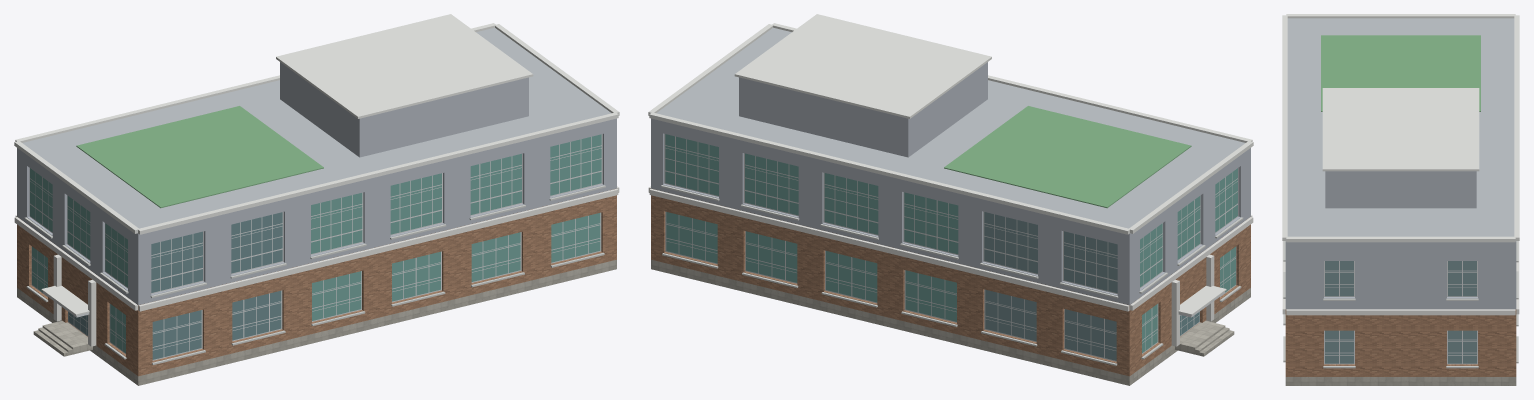
3 views of the same model, side by side, from view 1: azimuth 30°, elevation 25°; view 2: azimuth 150°, elevation 25°; view 3: azimuth 270°, elevation 25° (orthographic). The views are drawn at different scales.
Parts seen in each view (by area): view 1: theatre__metalpanel, theatre__redbrick, theatre__cap, theatre__tealglass, theatre__metalroof, theatre__roofturf, theatre__glass, theatre__frame, theatre__stone, theatre__panel, theatre__sill, theatre__stair-west (+1 smaller); view 2: theatre__metalpanel, theatre__tealglass, theatre__redbrick, theatre__cap, theatre__metalroof, theatre__roofturf, theatre__sideglass, theatre__frame, theatre__stone, theatre__panel, theatre__sill, theatre__stair-west (+1 smaller); view 3: theatre__metalroof, theatre__metalpanel, theatre__cap, theatre__redbrick, theatre__roofturf, theatre__sideglass, theatre__stone, theatre__panel, theatre__frame, theatre__sill.
Part boxes in pixels (left/top/right/bottom): theatre__metalpanel: left=17, top=62, right=616, bottom=305; theatre__redbrick: left=17, top=188, right=616, bottom=376; theatre__cap: left=14, top=14, right=619, bottom=315; theatre__tealglass: left=30, top=134, right=601, bottom=352; theatre__metalroof: left=22, top=27, right=611, bottom=234; theatre__roofturf: left=76, top=106, right=323, bottom=208; theatre__glass: left=68, top=212, right=282, bottom=359; theatre__frame: left=29, top=134, right=602, bottom=360; theatre__stone: left=17, top=259, right=616, bottom=385; theatre__panel: left=14, top=186, right=619, bottom=346; theatre__sill: left=24, top=185, right=605, bottom=364; theatre__stair-west: left=33, top=324, right=77, bottom=356; theatre__metalpanel: left=651, top=62, right=1250, bottom=305; theatre__tealglass: left=665, top=134, right=1237, bottom=352; theatre__redbrick: left=651, top=188, right=1250, bottom=376; theatre__cap: left=648, top=14, right=1253, bottom=315; theatre__metalroof: left=656, top=27, right=1245, bottom=234; theatre__roofturf: left=944, top=106, right=1191, bottom=208; theatre__sideglass: left=984, top=212, right=1117, bottom=360; theatre__frame: left=664, top=134, right=1238, bottom=361; theatre__stone: left=651, top=259, right=1250, bottom=385; theatre__panel: left=648, top=186, right=1253, bottom=346; theatre__sill: left=661, top=185, right=1243, bottom=365; theatre__stair-west: left=1190, top=324, right=1234, bottom=356; theatre__metalroof: left=1285, top=18, right=1516, bottom=241; theatre__metalpanel: left=1285, top=171, right=1516, bottom=309; theatre__cap: left=1282, top=14, right=1519, bottom=242; theatre__redbrick: left=1285, top=309, right=1516, bottom=376; theatre__roofturf: left=1321, top=35, right=1480, bottom=111; theatre__sideglass: left=1325, top=261, right=1476, bottom=363; theatre__stone: left=1285, top=377, right=1516, bottom=385; theatre__panel: left=1282, top=241, right=1519, bottom=315; theatre__frame: left=1324, top=261, right=1477, bottom=364; theatre__sill: left=1283, top=241, right=1518, bottom=368.
Bounding box in the file's own units: 43.73 × 16.08 × 18.52.
14 materials, 2 textured.
